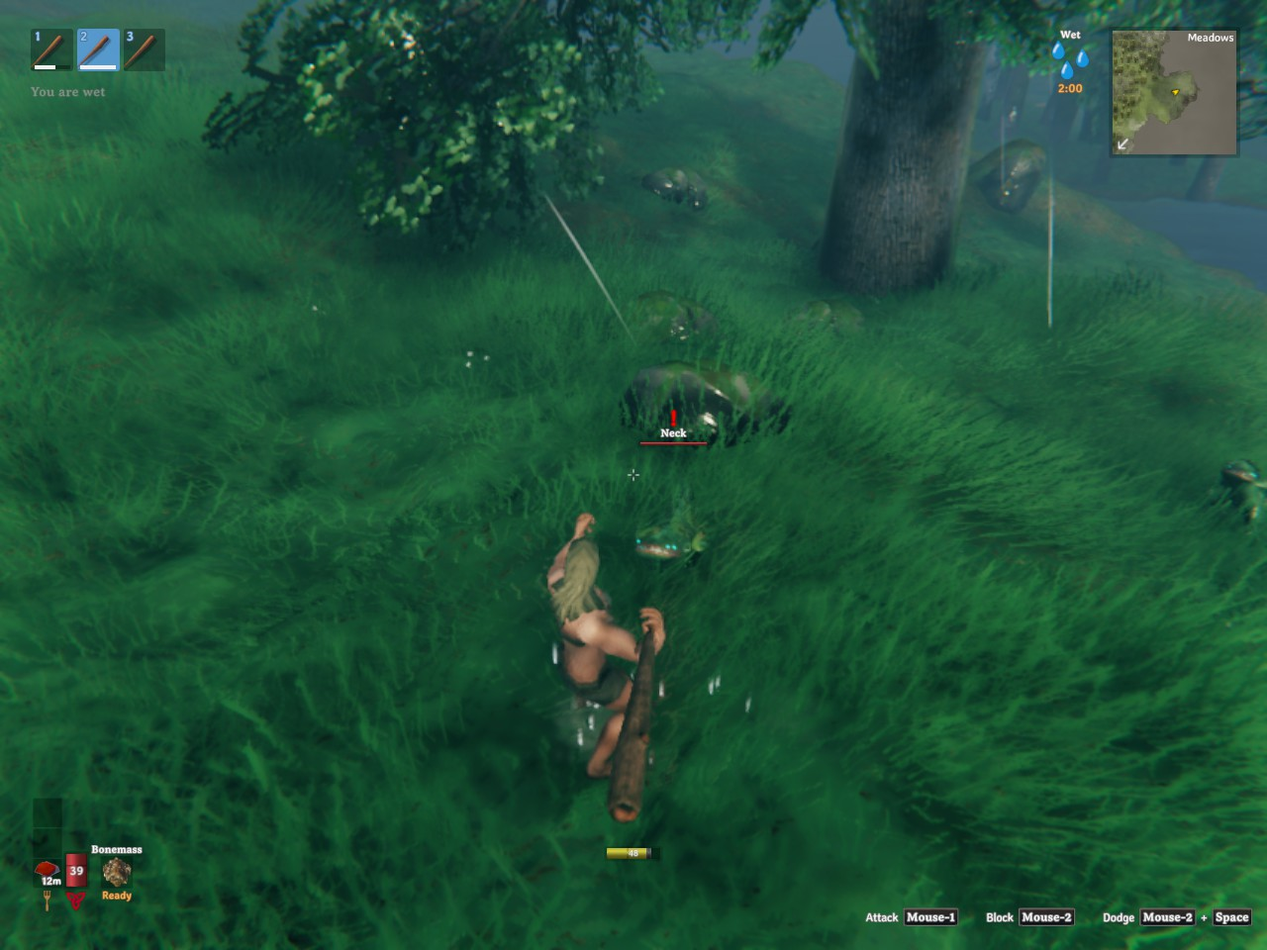Food Indicator: (36, 797, 63, 891)
Health Bar: (63, 820, 90, 891)
Hotbar: (24, 21, 195, 80)
Neck: (635, 501, 707, 559), (1221, 459, 1266, 522)
Stamina Bar: (601, 841, 662, 865)
Status Indicator: (1024, 22, 1111, 100)
